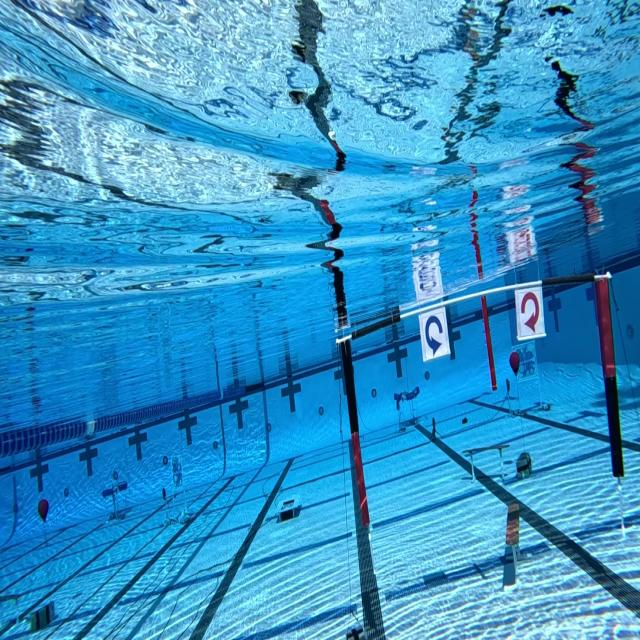blue_side: (419, 305, 454, 365)
red_side: (515, 282, 547, 341)
